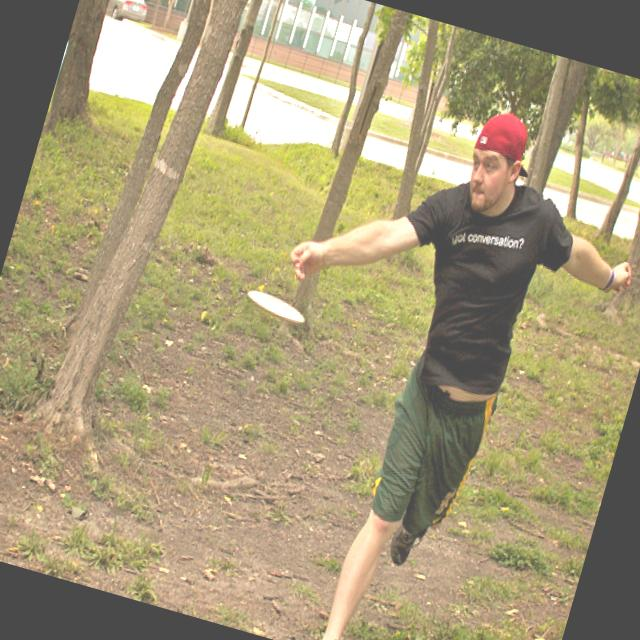Vehicle: (103, 0, 153, 27)
